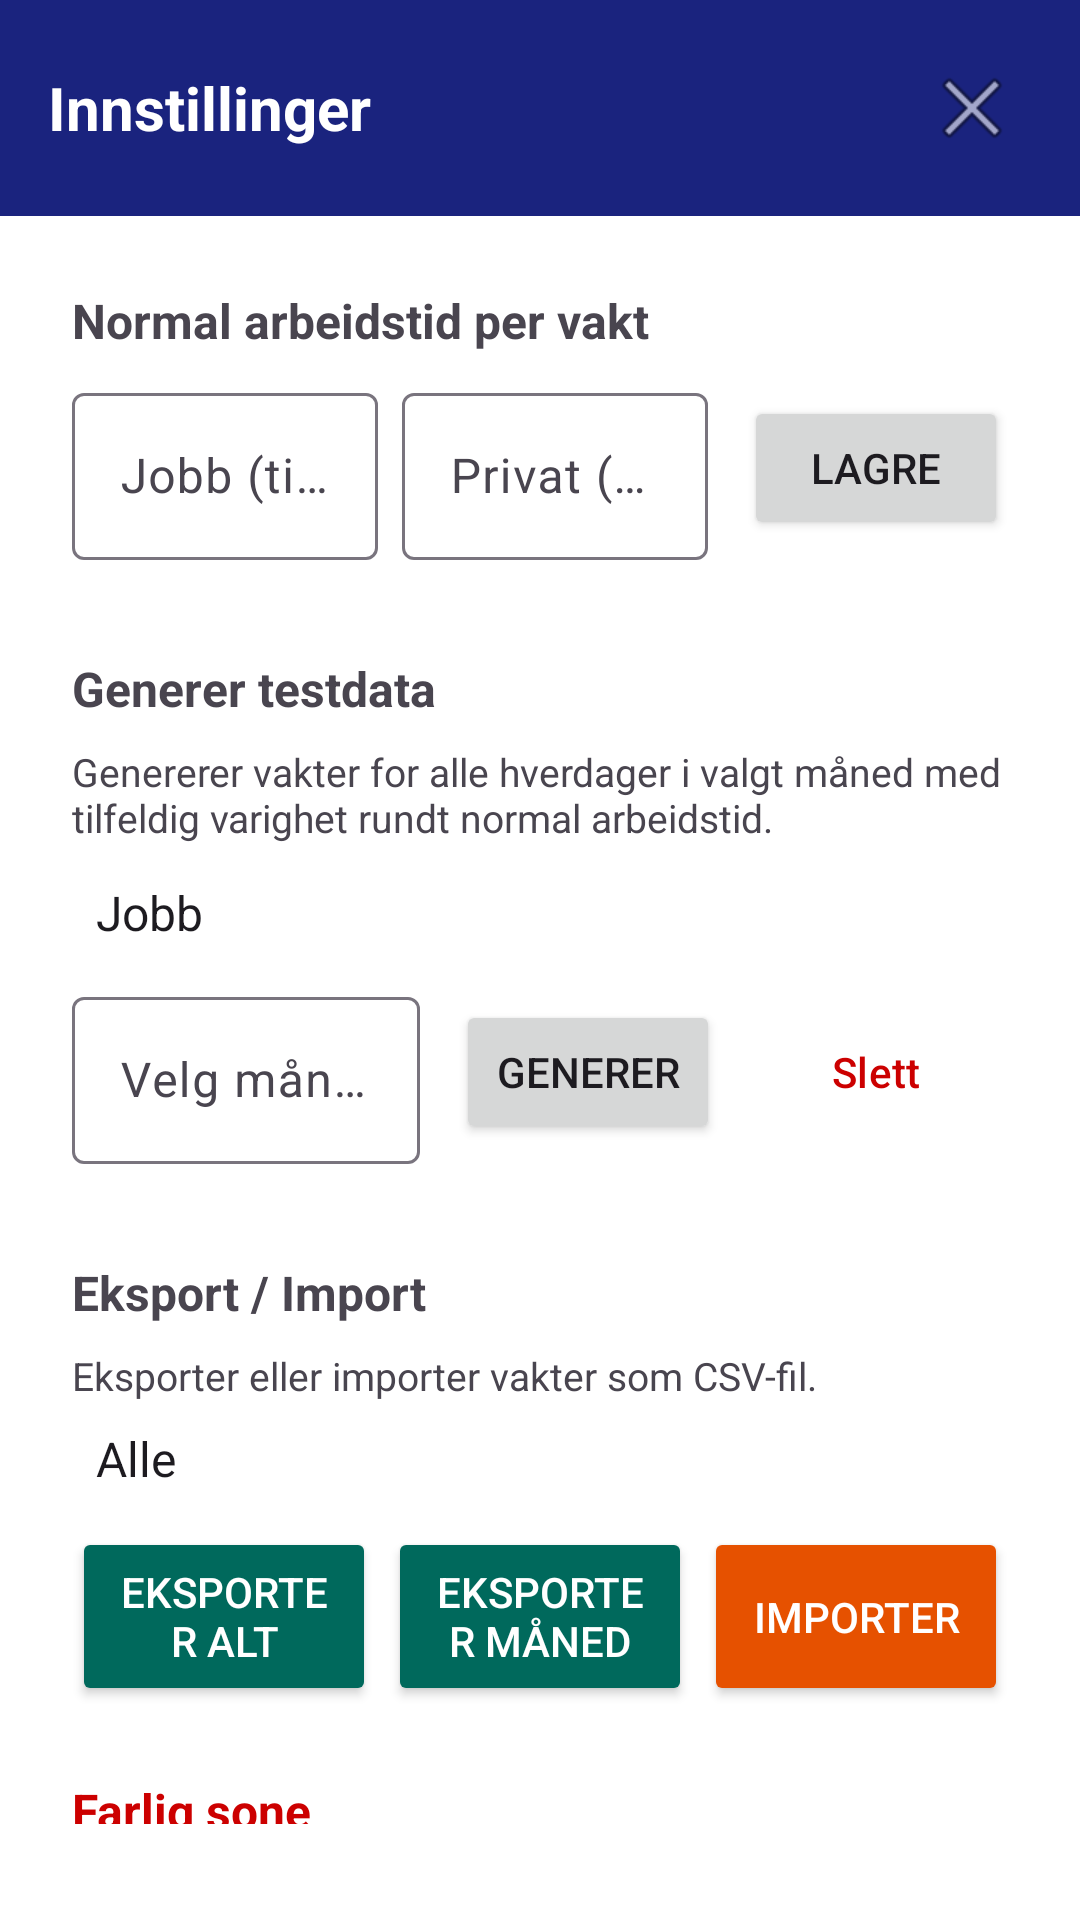

Icon bounding boxes for this 1080×1920 phone screenshot, format (x1,y1,x2,y2):
Lukk: (942,78,1002,138)
